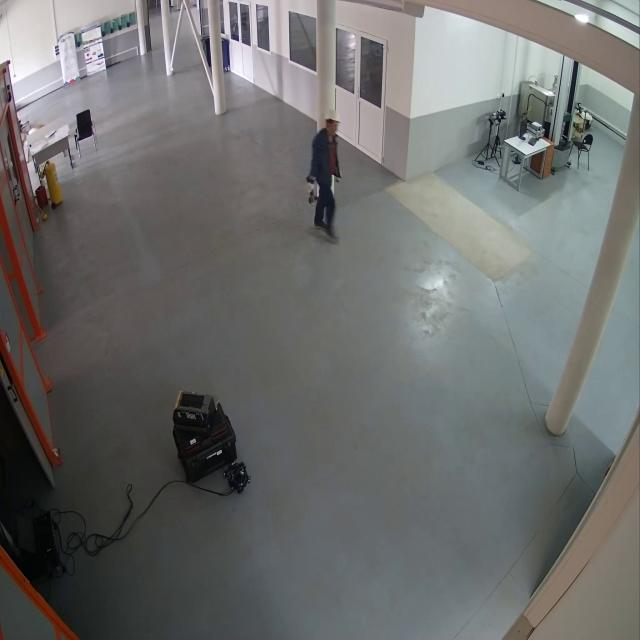Hardhat: (325, 107, 340, 124)
Person: (305, 106, 345, 244)
